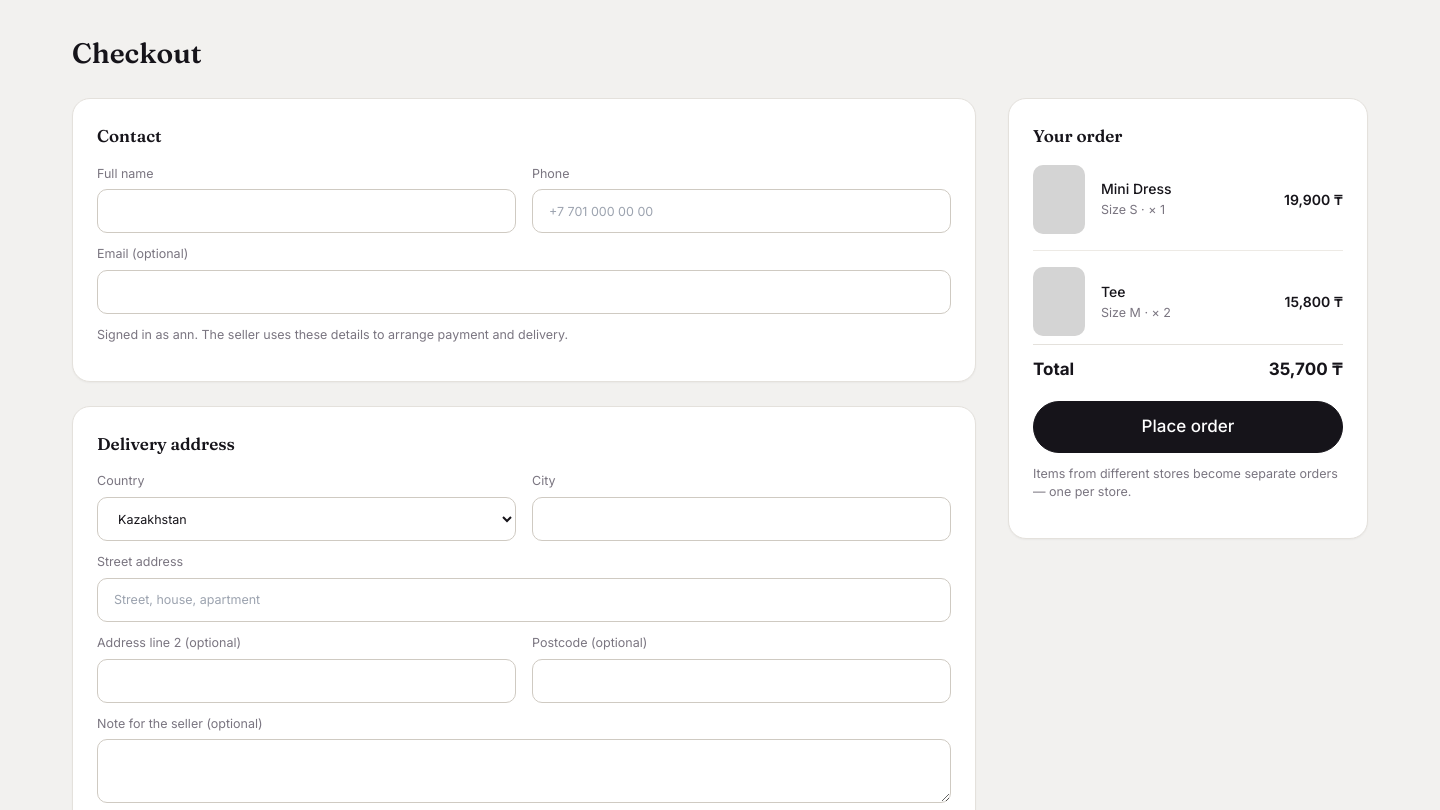
it: checkout › empty form: every missing field at once, nothing sent
Click the button "Place order" at (1188, 427), box [1033, 401, 1343, 453]
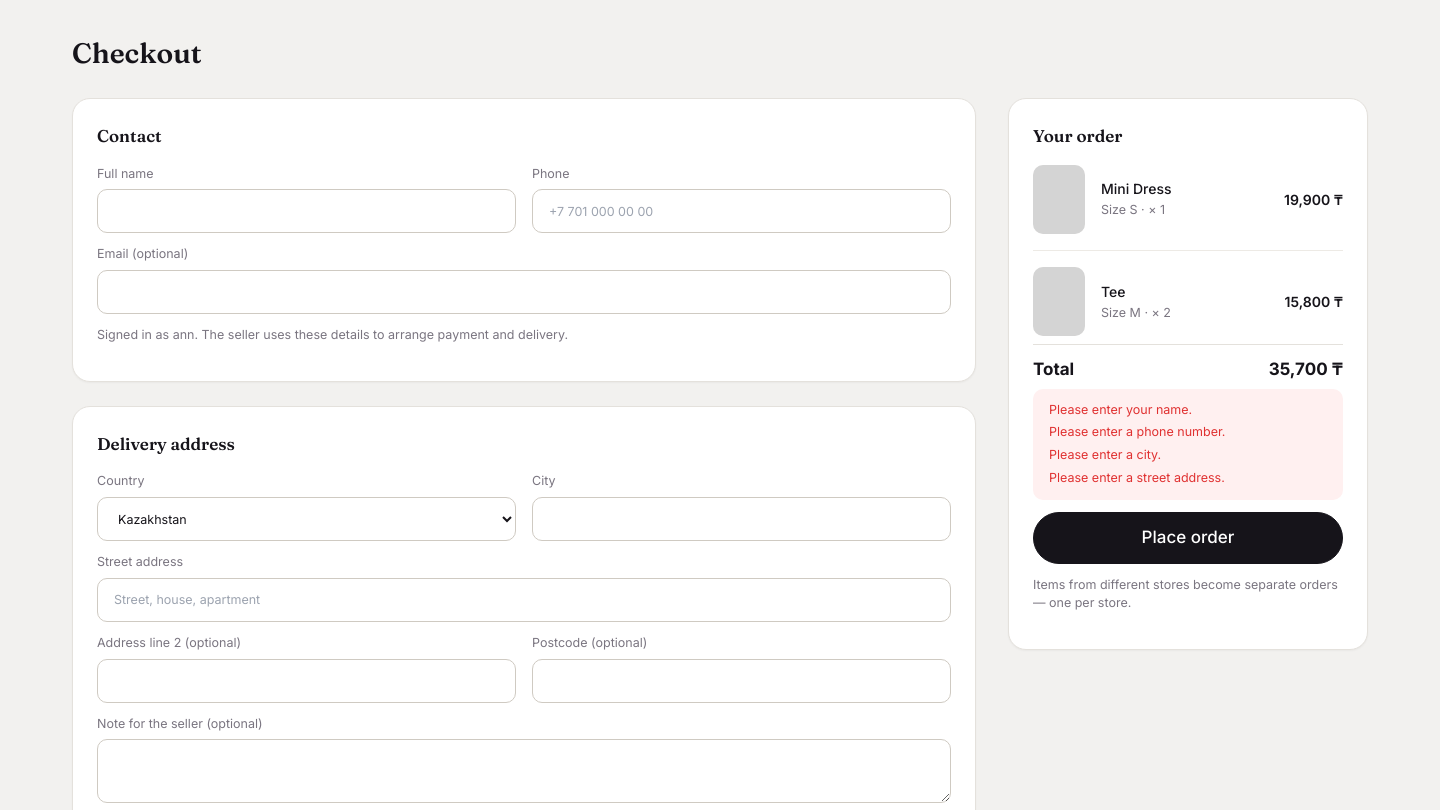
Now the message shows "Please enter your name.", box [1049, 402, 1192, 417]
Now the message shows "Please enter a street address.", box [1049, 470, 1225, 485]
